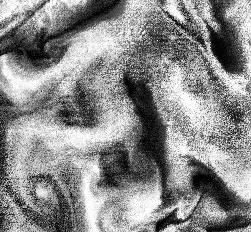CE: (13, 166, 65, 217)
